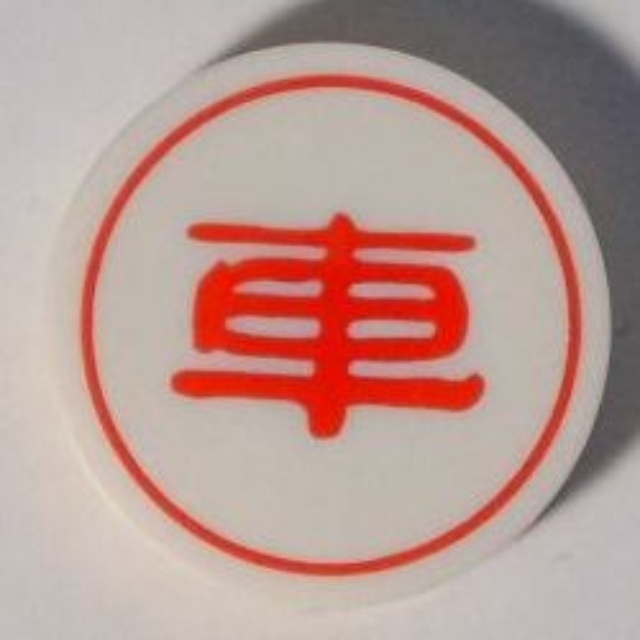red_xe: (48, 40, 624, 605)
